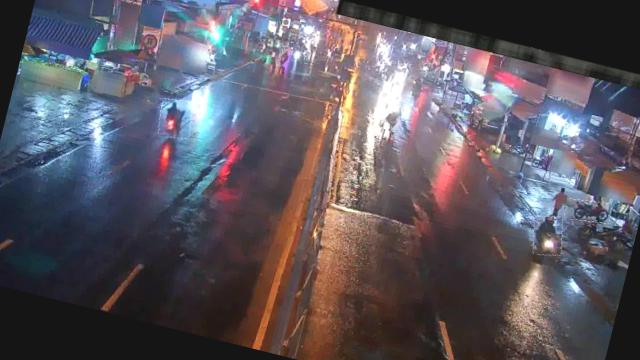Bike: (527, 214, 567, 260), (156, 96, 196, 142), (564, 196, 614, 228), (381, 102, 403, 132), (277, 46, 293, 68), (270, 42, 282, 61)
